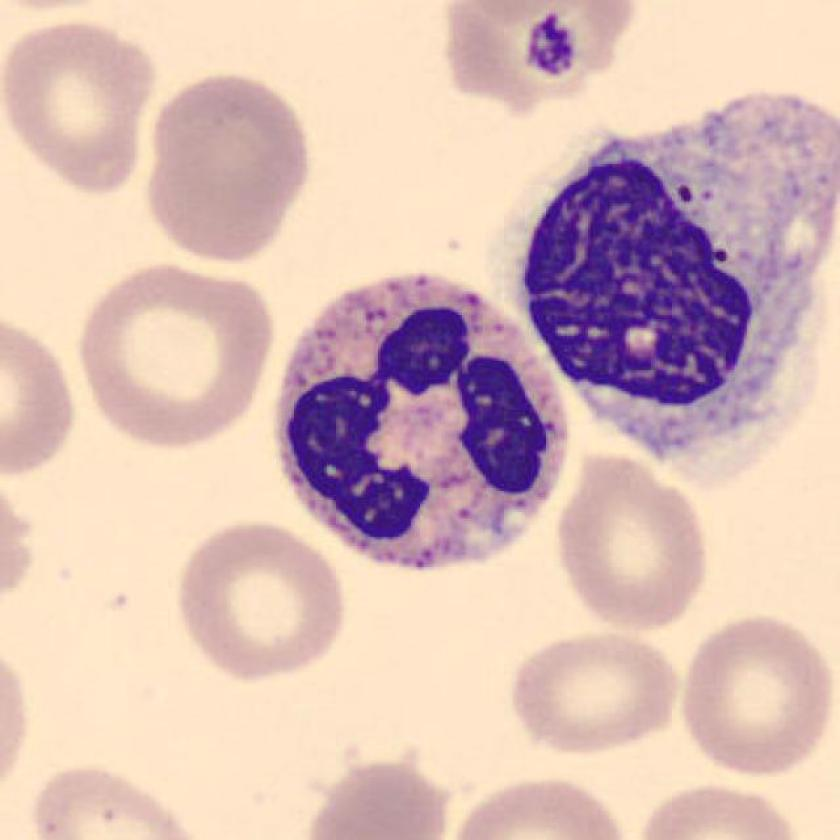lymphocyte: (507, 94, 840, 481)
neutrophil: (277, 277, 566, 571)
